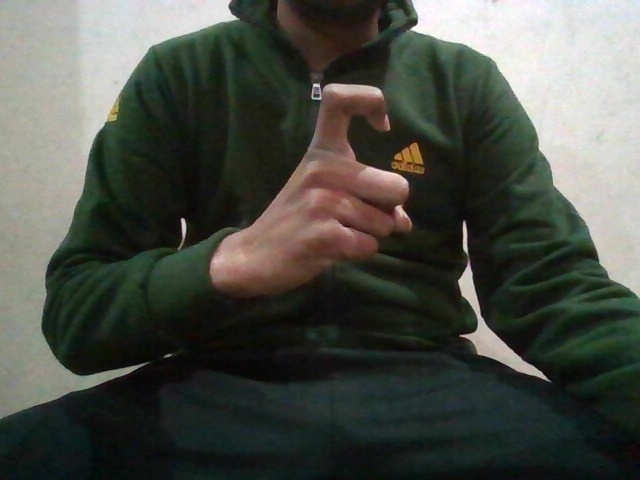P: (272, 83, 420, 306)
